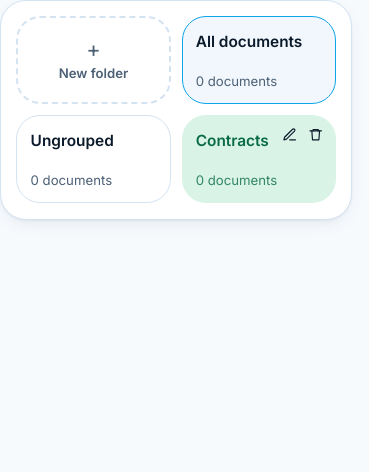
Test case: FolderGrid: delete › on failure, shows the error inline and keeps the confirm box for retry
Click the button named "Delete Contracts".
click(316, 135)  # box [304,123,328,147]
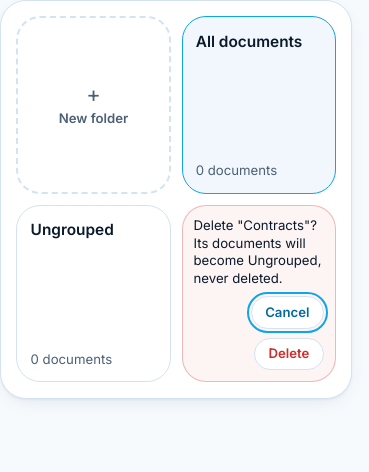
Click the button "Delete".
click(289, 354)  # box [254,338,324,370]
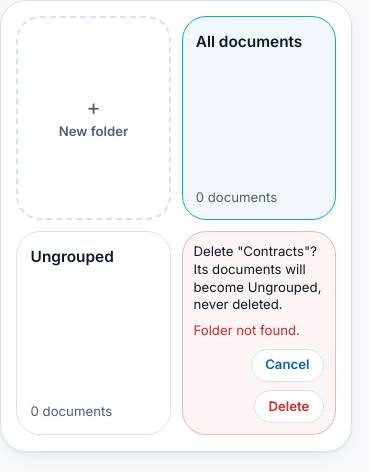
Expected: the button "Delete" is shown, [254,390,324,423]
Result: the text "Folder not found." is shown at [194,322,300,338]
